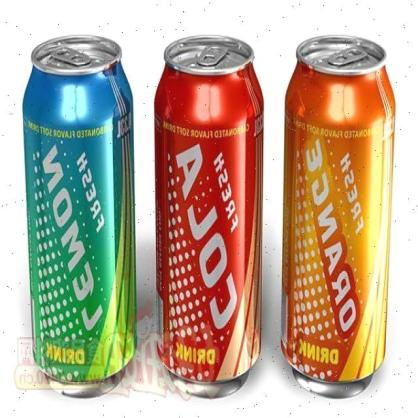can: (21, 32, 144, 400), (280, 32, 401, 400), (154, 30, 271, 397)
